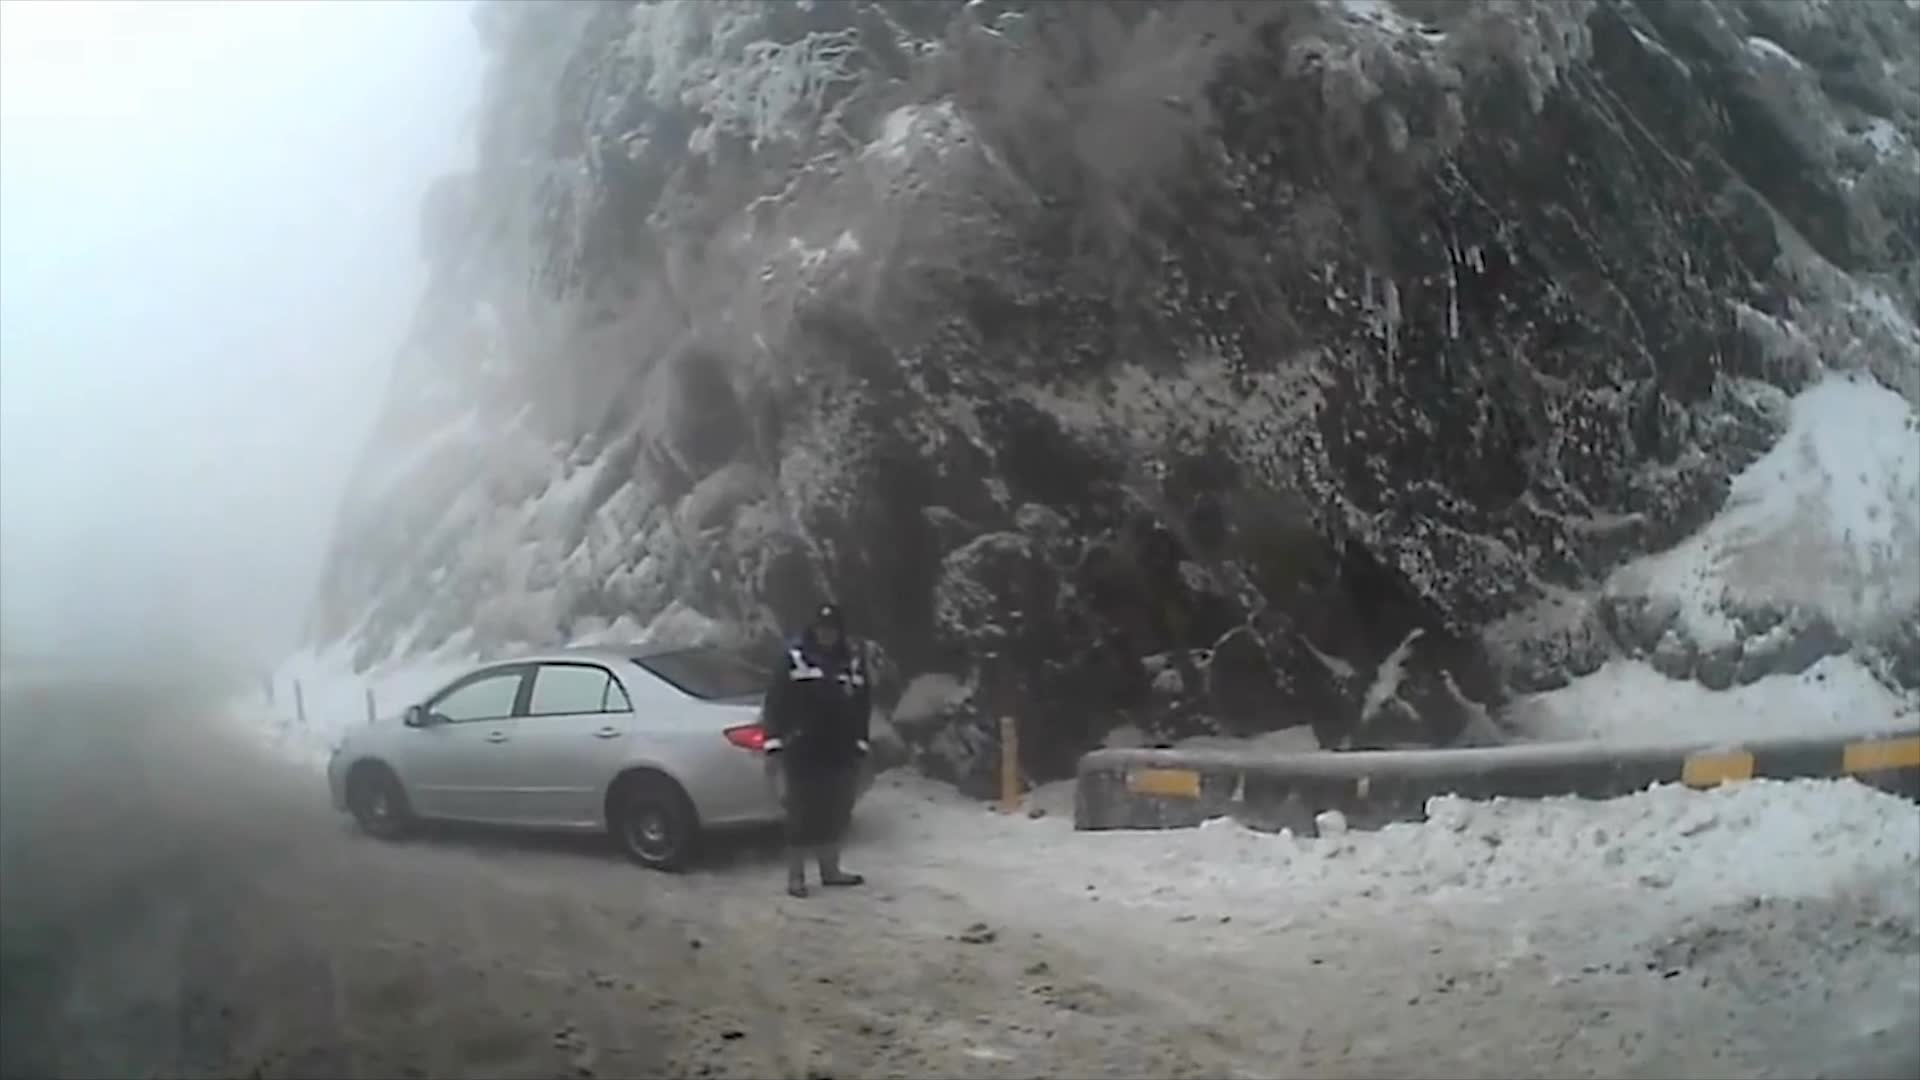pedestrian: (777, 593, 888, 894)
vehicle: (324, 638, 877, 874)
